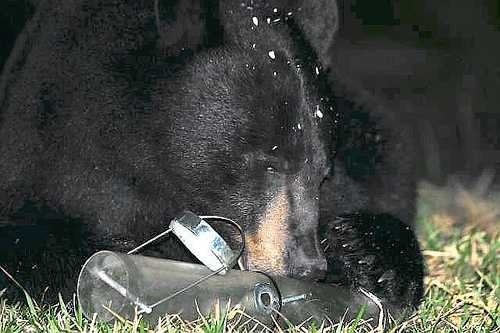bear: (219, 148, 348, 276), (232, 1, 360, 128)
